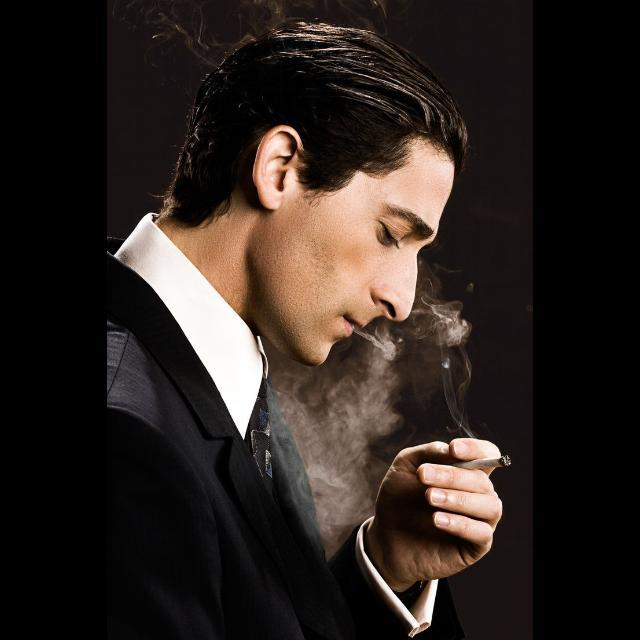rokok: (457, 452, 518, 472)
